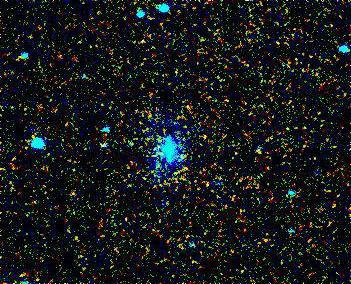star: (189, 124, 219, 154)
